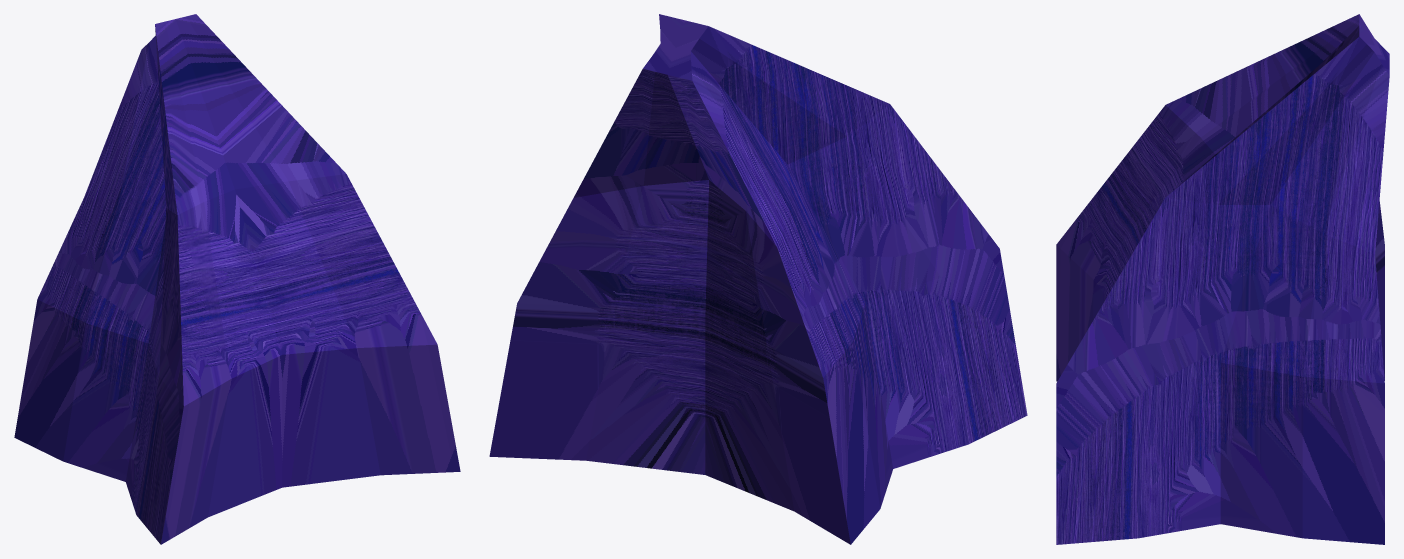
File: Ed raro.fbx
The picture shows the model from 3 angles, left to right: view 1: azimuth 30°, elevation 25°; view 2: azimuth 150°, elevation 25°; view 3: azimuth 270°, elevation 25°; orthographic projection. The views are drawn at different scales.
Parts seen in each view (by area): view 1: Cube; view 2: Cube; view 3: Cube.
Boxes of the visible parts, box(x1,y1,x2,y2) form: Cube: box(14, 14, 460, 544); Cube: box(489, 14, 1027, 544); Cube: box(1056, 14, 1389, 544).
Bounding box in the file's own units: 1088 × 1354 × 935.
